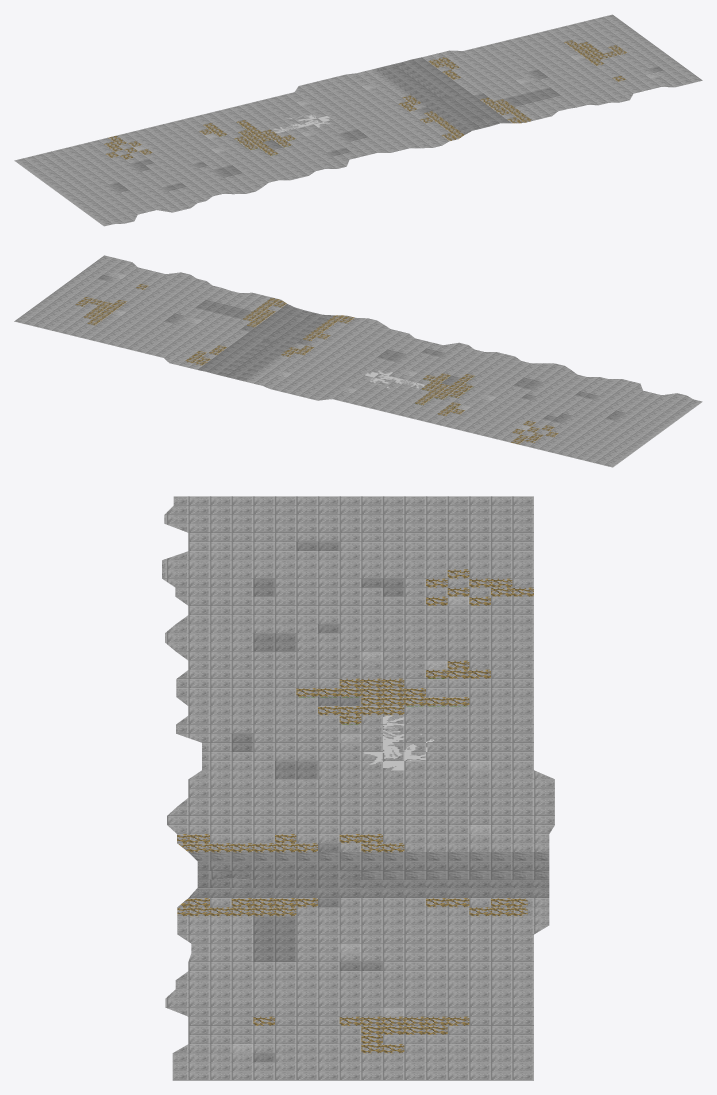
File: WallRight_smooth.obj
3 views of the same model, one above another, from view 1: azimuth 30°, elevation 25°; view 2: azimuth 150°, elevation 25°; view 3: azimuth 270°, elevation 25° (orthographic). The views are drawn at different scales.
Visible parts, largest first — view 1: WallRight_smooth; view 2: WallRight_smooth; view 3: WallRight_smooth.
Boxes of the visible parts, box(x1,y1,x2,y2) form: WallRight_smooth: box(14, 14, 702, 226); WallRight_smooth: box(14, 255, 702, 467); WallRight_smooth: box(162, 496, 554, 1080).
Bounding box in the file's own units: 64 × 0.1117 × 18.2.
